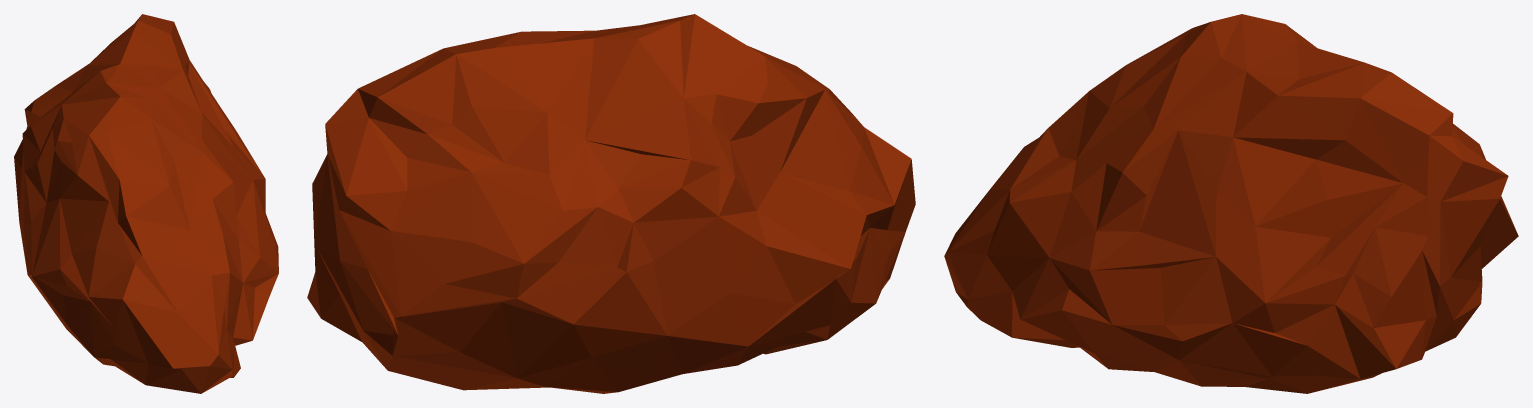
Rendered from Stone_05.glb.
The picture shows the model from 3 angles, left to right: view 1: azimuth 30°, elevation 25°; view 2: azimuth 150°, elevation 25°; view 3: azimuth 270°, elevation 25°; orthographic projection. The views are drawn at different scales.
Parts seen in each view (by area): view 1: Stone_05; view 2: Stone_05; view 3: Stone_05.
Boxes of the visible parts, box(x1,y1,x2,y2) form: Stone_05: box(14, 14, 278, 393); Stone_05: box(307, 14, 915, 393); Stone_05: box(944, 14, 1518, 393).
Size of what is drawn, in the model's own units: 0.7346 by 0.5972 by 1.01.
1 material, 1 textured.
